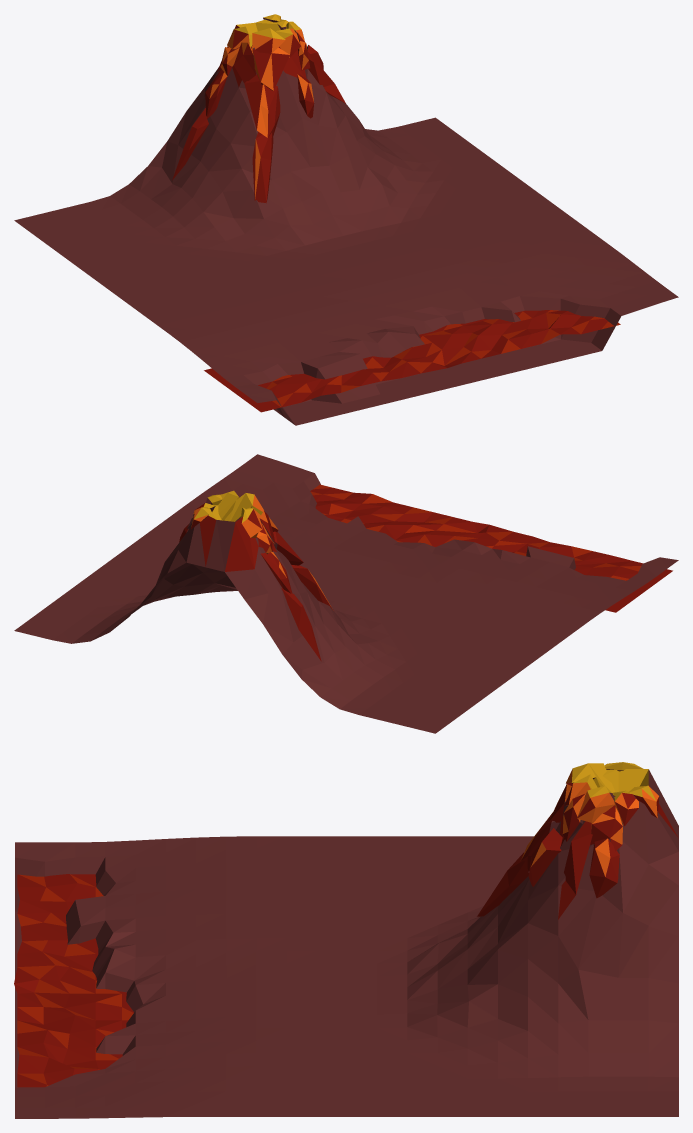
File: lava_level.fbx
The picture shows the model from 3 angles, top to bottom: view 1: azimuth 30°, elevation 25°; view 2: azimuth 150°, elevation 25°; view 3: azimuth 270°, elevation 25°; orthographic projection. The views are drawn at different scales.
Visible parts, largest first — view 1: Plane; view 2: Plane; view 3: Plane.
Boxes of the visible parts, x1,y1,x2,y2 form: Plane: (14,14,678,425); Plane: (14,454,678,733); Plane: (14,762,678,1118).
Size of the model in its own units: 20000 by 9014 by 20027.
